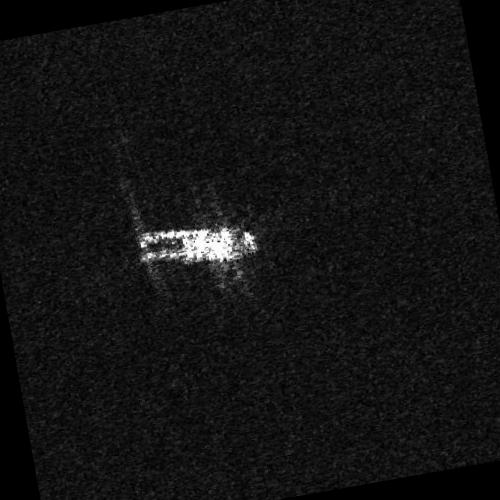ship: (138, 228, 261, 262)
